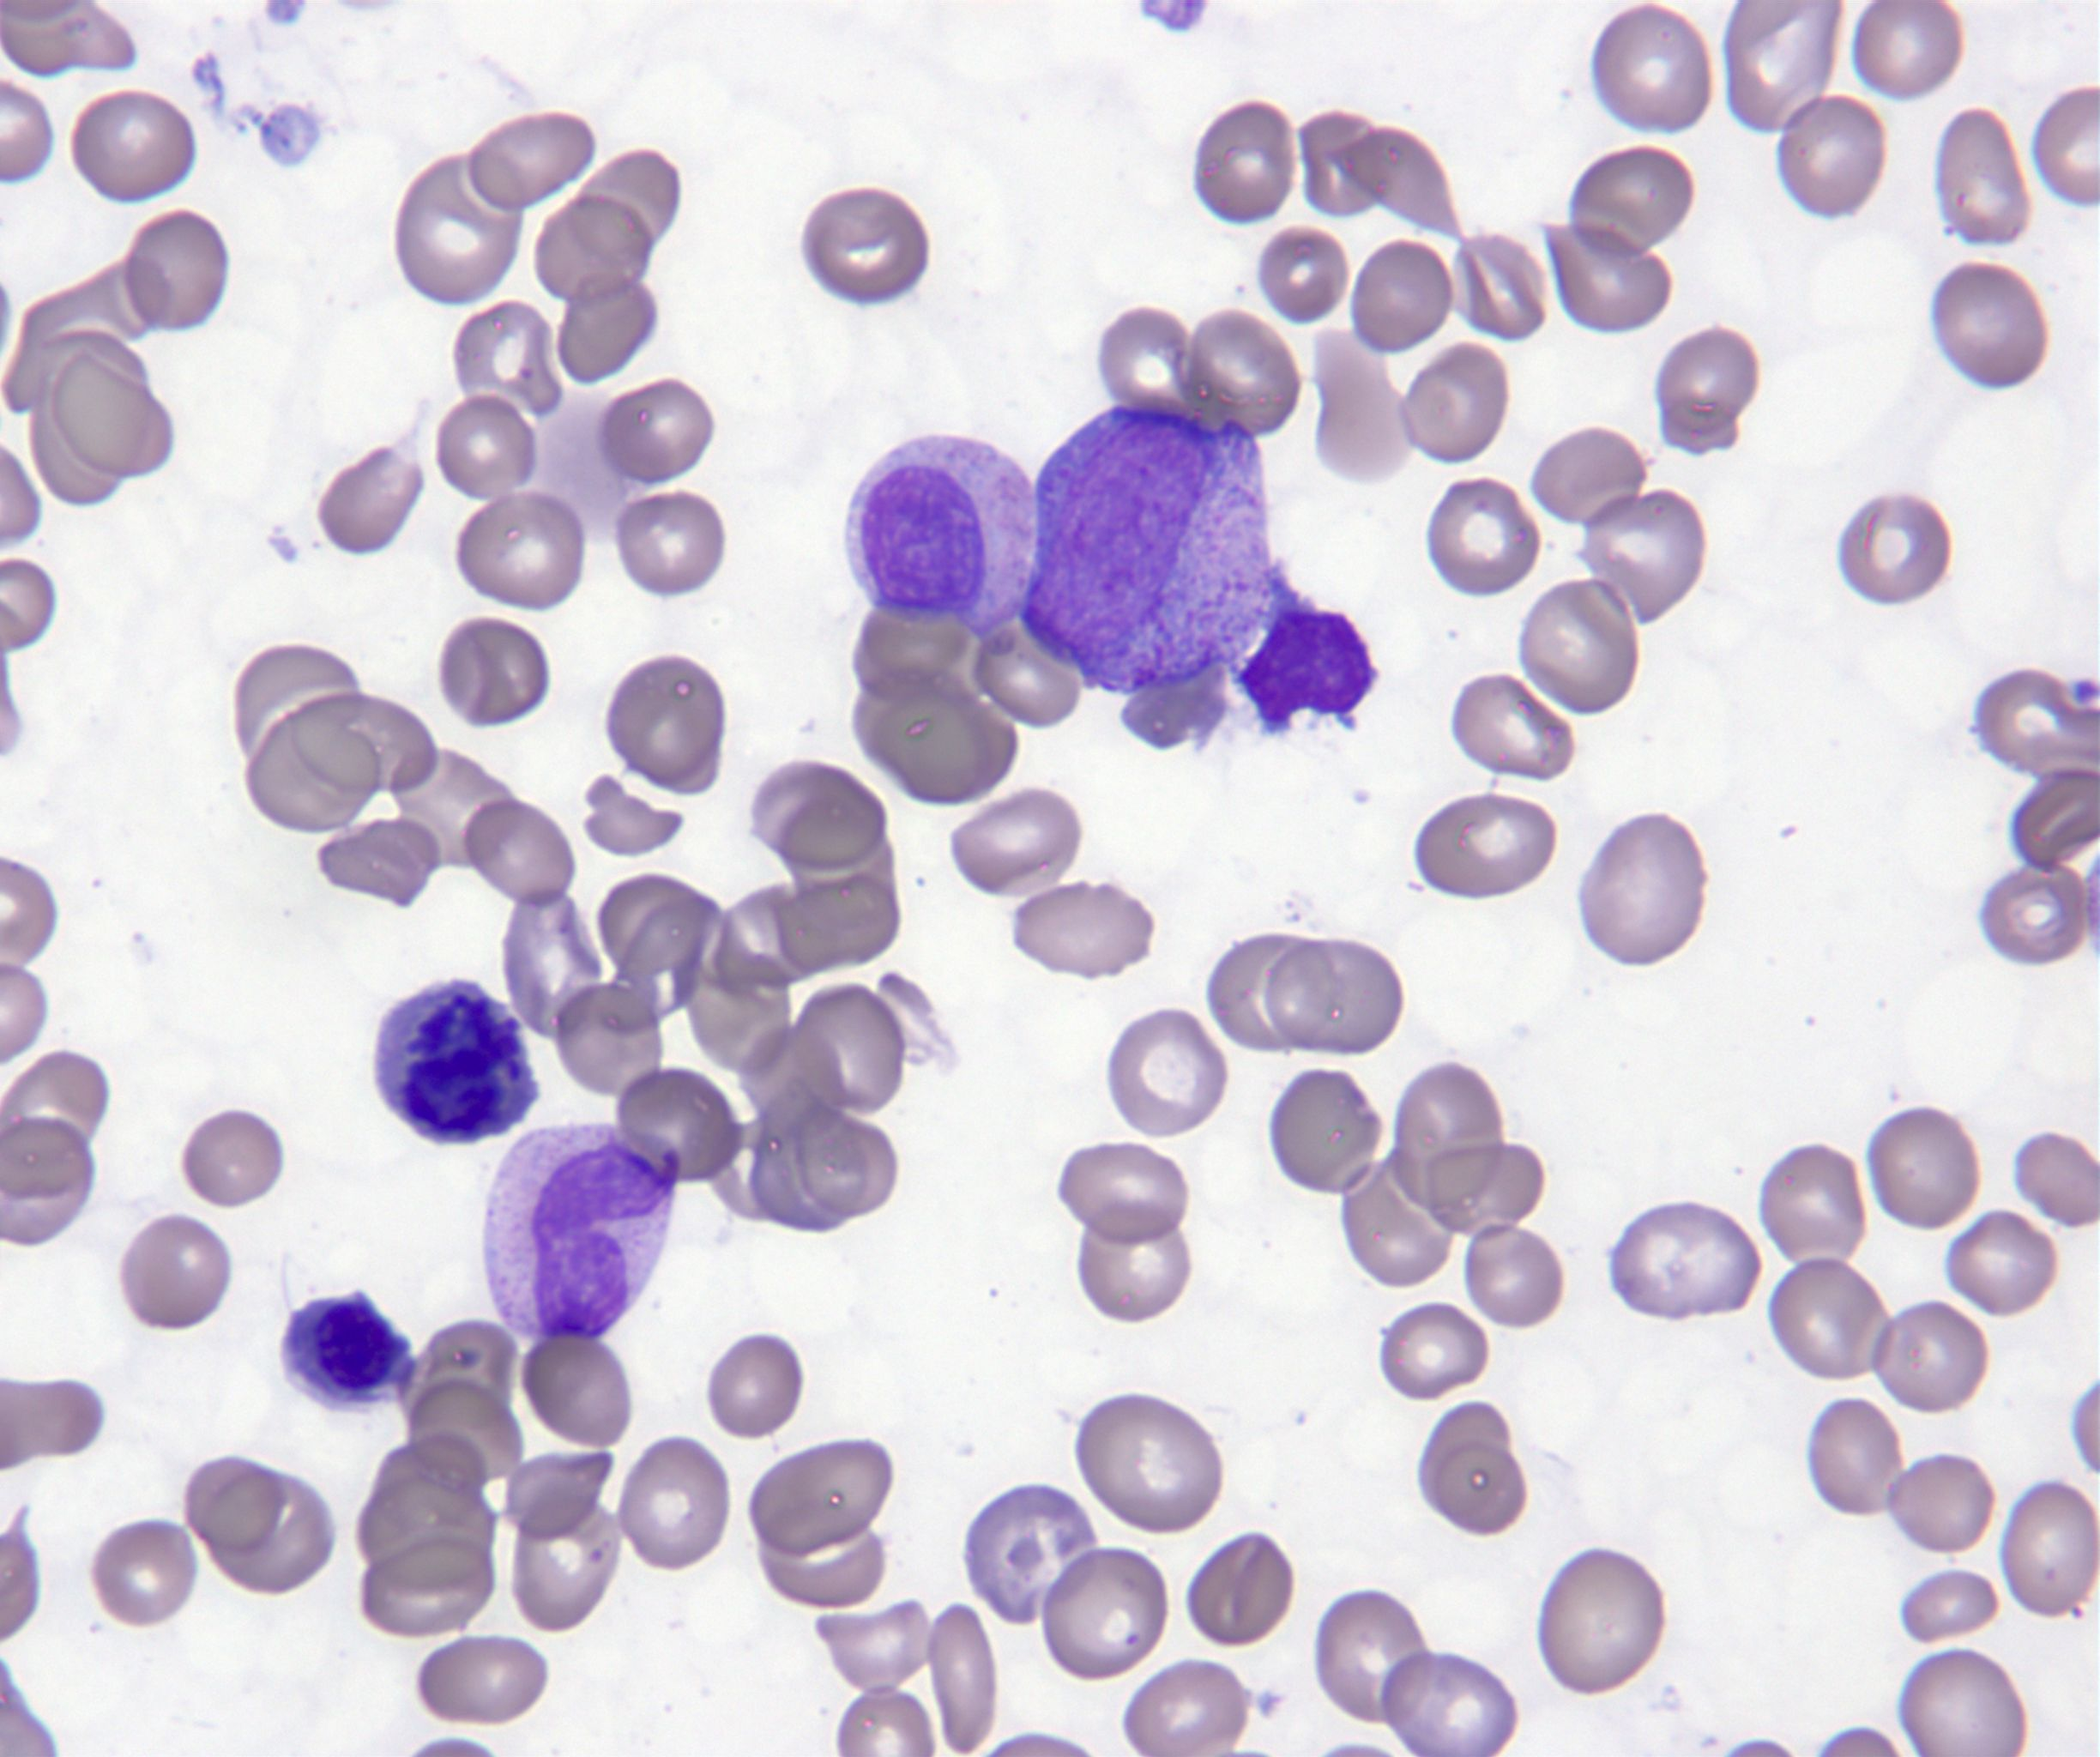23: (277, 1288, 413, 1410)
3: (1017, 394, 1275, 691), (841, 433, 1045, 635)
5: (485, 1122, 677, 1342)
x: (375, 979, 539, 1146), (1235, 564, 1374, 736)
